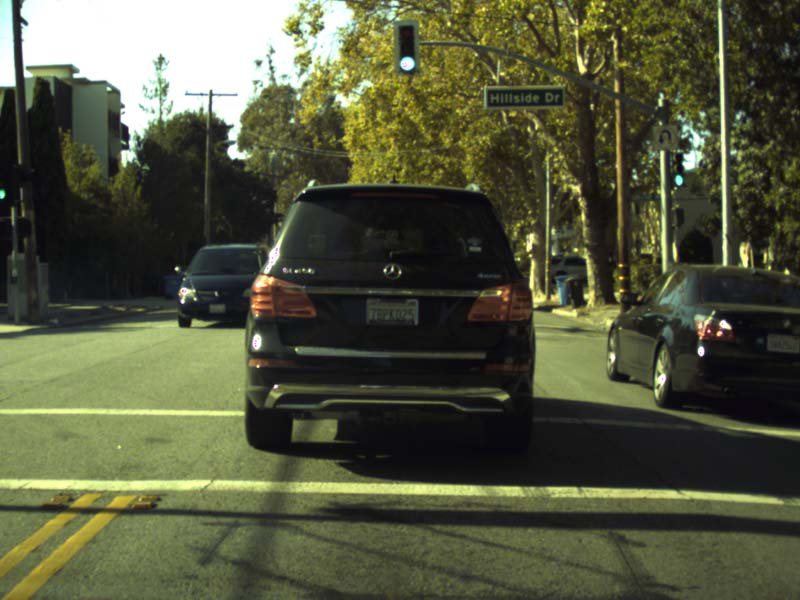Green: (393, 20, 418, 75), (672, 153, 684, 186)
